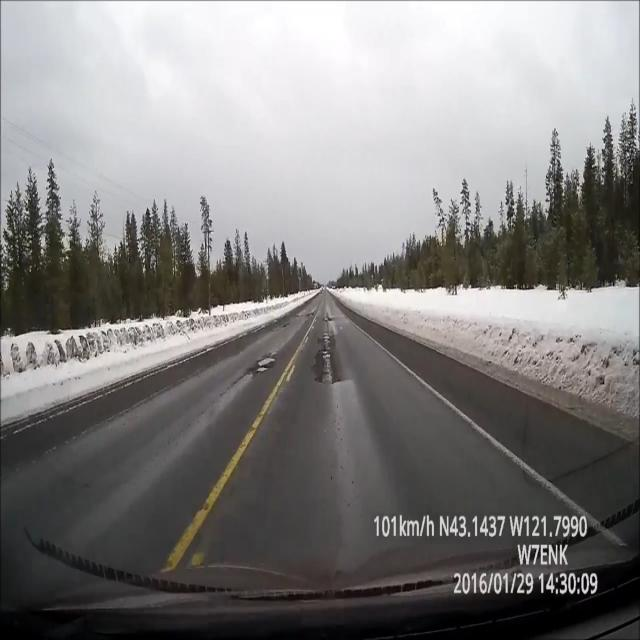Pothole: (314, 333, 344, 384), (244, 351, 278, 378)
